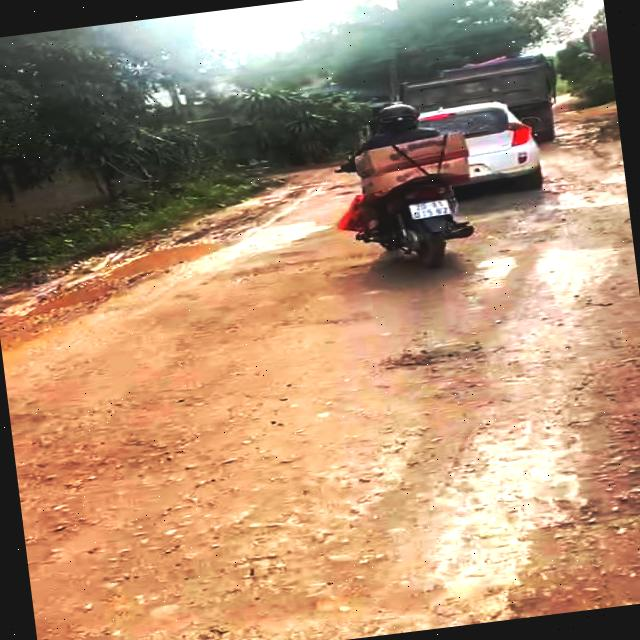pothole: (17, 230, 255, 321)
